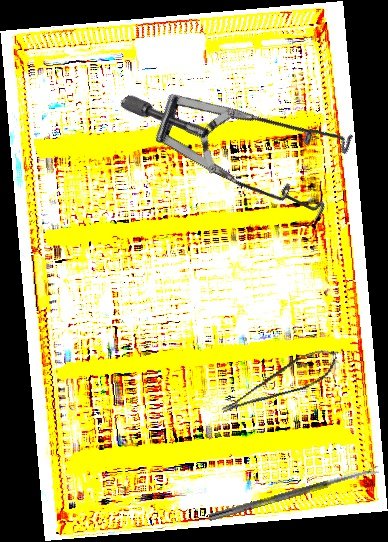Micro Scissor: (214, 344, 343, 417)
Speculum: (117, 1, 381, 273)
Surgical Spoon: (208, 465, 380, 523)
